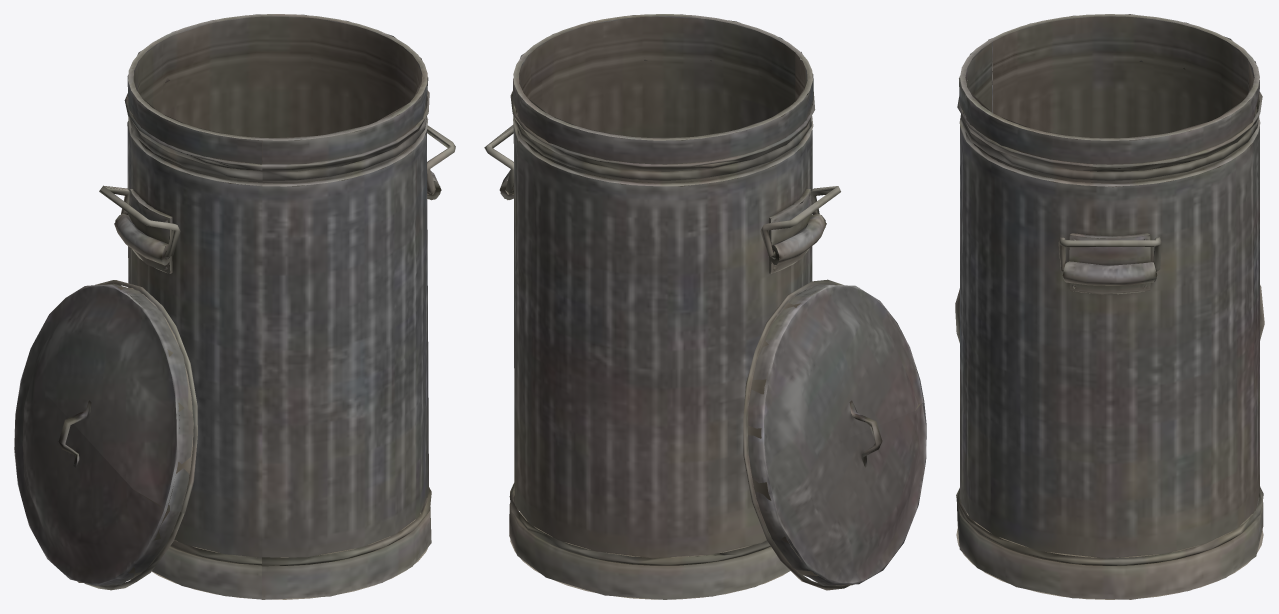
The model's file is trash_can.glb.
3 renders of one model, left to right at view 1: azimuth 30°, elevation 25°; view 2: azimuth 150°, elevation 25°; view 3: azimuth 270°, elevation 25°, orthographic.
Visible parts, largest first — view 1: metal_trash_can_handle_left; view 2: metal_trash_can_handle_left; view 3: metal_trash_can_handle_left.
Boxes of the visible parts, bbox=[...] form: metal_trash_can_handle_left: bbox=[14, 14, 455, 599]; metal_trash_can_handle_left: bbox=[484, 14, 926, 599]; metal_trash_can_handle_left: bbox=[955, 14, 1264, 599].
Bounding box in the file's own units: 0.779 × 0.9062 × 0.5557.
Materials: 1 (1 with a texture image).
